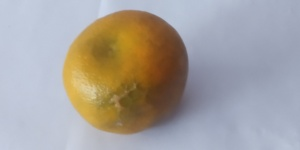BAD: (63, 9, 188, 133)
